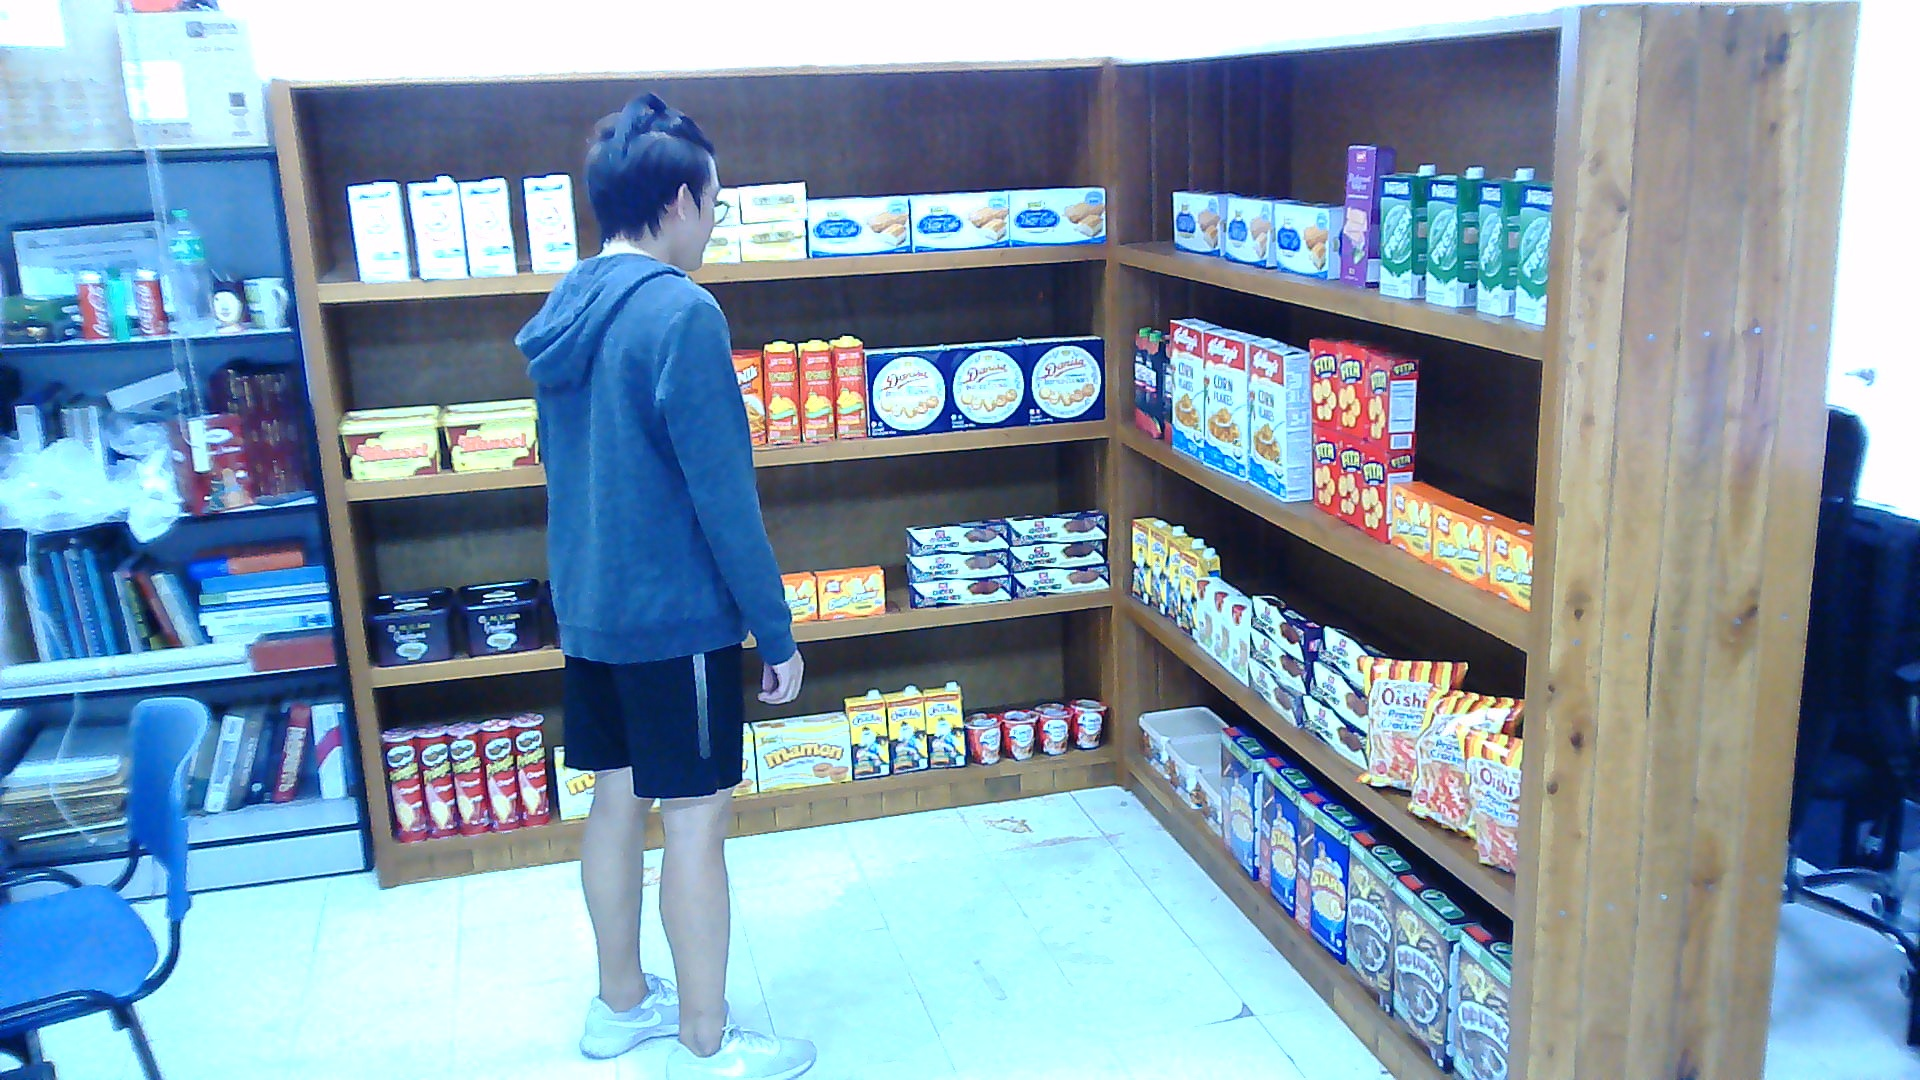Bear brand: (408, 175, 468, 276), (348, 180, 408, 279), (458, 177, 515, 274), (522, 173, 576, 270)
Buttercake: (909, 189, 1008, 252), (807, 195, 909, 256), (1008, 186, 1104, 245), (1274, 200, 1343, 279), (1223, 196, 1298, 268), (1173, 189, 1245, 257)
Butterlicious: (1430, 495, 1511, 589), (1391, 479, 1454, 562), (1488, 518, 1533, 612), (813, 563, 885, 619), (780, 569, 816, 621)
Camomille: (738, 179, 804, 222), (741, 221, 804, 259), (702, 225, 738, 261), (717, 187, 741, 223)
Choco Crunchies: (1250, 594, 1319, 664), (1302, 695, 1368, 769), (1317, 625, 1389, 688), (1308, 659, 1365, 731), (1251, 627, 1311, 692), (906, 518, 1008, 556), (1005, 508, 1107, 544), (1248, 659, 1302, 727), (1011, 562, 1110, 598), (906, 549, 1008, 581), (909, 576, 1011, 608), (1011, 540, 1107, 572)
Chocolate Chips: (1137, 704, 1227, 778), (1164, 732, 1218, 808), (1193, 758, 1220, 837)
Chuckie: (842, 689, 887, 779), (882, 684, 927, 774), (920, 681, 965, 767), (1167, 536, 1206, 628), (1181, 547, 1220, 641), (1131, 515, 1170, 605), (1152, 524, 1188, 616)
Danisa: (864, 344, 948, 436), (1022, 333, 1103, 425), (944, 340, 1025, 430)
Fita: (1359, 441, 1413, 542), (1365, 350, 1419, 449), (1338, 342, 1386, 436), (1308, 338, 1356, 430), (1335, 432, 1362, 524), (1314, 423, 1338, 513)
Fresh Milk: (1425, 166, 1491, 306), (1478, 167, 1535, 315), (1380, 164, 1440, 297), (1515, 180, 1551, 324)
Grahams: (365, 587, 452, 666), (456, 575, 540, 654)
Hansel: (339, 405, 441, 477), (441, 396, 537, 468)
Head: (572, 78, 737, 283)
Honey Stars: (1292, 787, 1373, 963), (1257, 754, 1323, 918), (1220, 722, 1277, 882)
Kellogg Corn Flakes: (1247, 338, 1310, 502), (1203, 326, 1263, 479), (1169, 317, 1220, 461)
Kimchi Noodles: (1035, 702, 1074, 756), (963, 711, 999, 765), (1002, 709, 1038, 761), (1068, 699, 1104, 748)
Koko Krunch: (1391, 871, 1478, 1071), (1343, 828, 1418, 1017), (1452, 920, 1512, 1077)
Locally Mango: (762, 340, 798, 443), (798, 339, 834, 440), (831, 335, 867, 436)
Mamon: (750, 710, 852, 791), (555, 745, 594, 819), (732, 720, 756, 796)
Oishi Prawn: (1406, 686, 1523, 839), (1353, 652, 1467, 789), (1455, 724, 1521, 875)
Pik-nik: (732, 348, 765, 445)
Pringles: (380, 726, 425, 841), (417, 722, 459, 837), (447, 719, 489, 834), (509, 711, 548, 828), (479, 717, 518, 830)
Super Fruits: (1146, 329, 1167, 439), (1134, 324, 1155, 430), (1160, 335, 1169, 445)
Wafer: (1341, 144, 1395, 288)
iHop: (1212, 585, 1248, 668), (1196, 575, 1229, 654), (1230, 598, 1248, 686)
